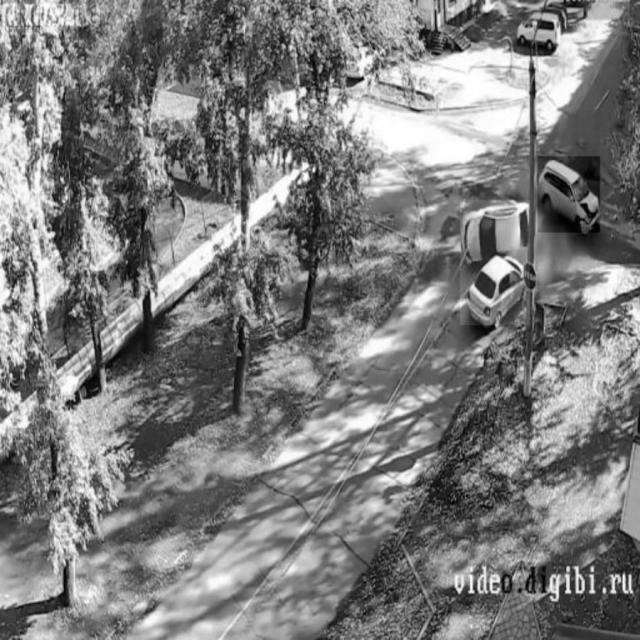accident: (460, 200, 531, 324)
vehicle: (539, 156, 601, 232), (516, 9, 563, 51)
